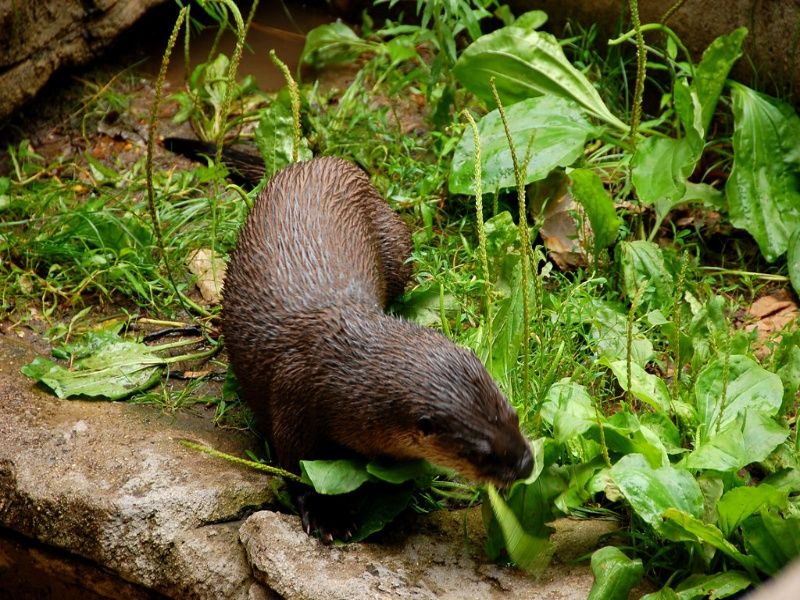minkish: (138, 112, 540, 519)
